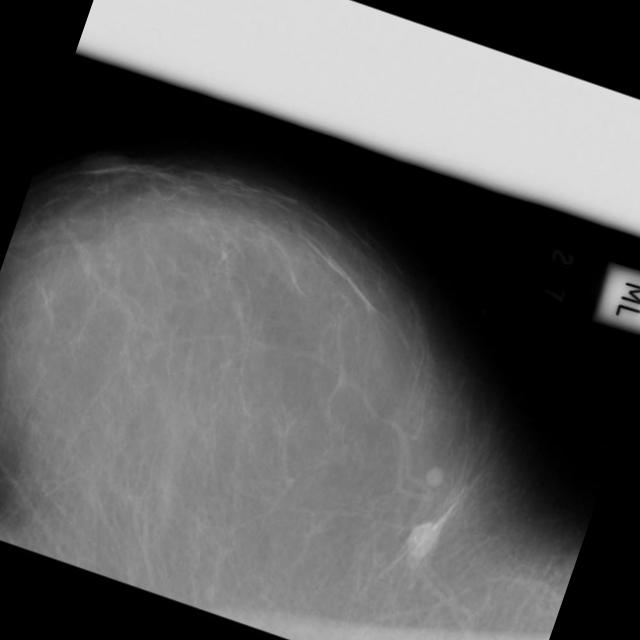CIRC: (388, 488, 472, 572)
